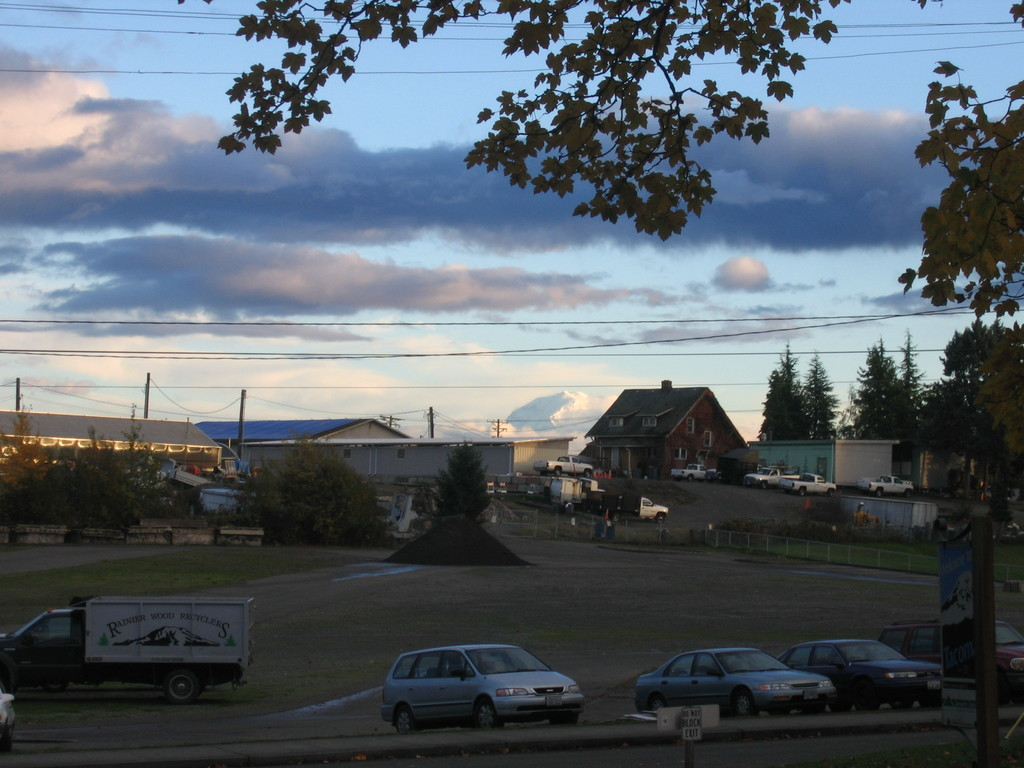Car: (376, 637, 583, 728), (634, 645, 840, 720), (777, 638, 946, 714), (879, 622, 1023, 703), (535, 453, 599, 480), (746, 462, 802, 489), (782, 471, 832, 495), (858, 476, 912, 497), (672, 461, 718, 482)
